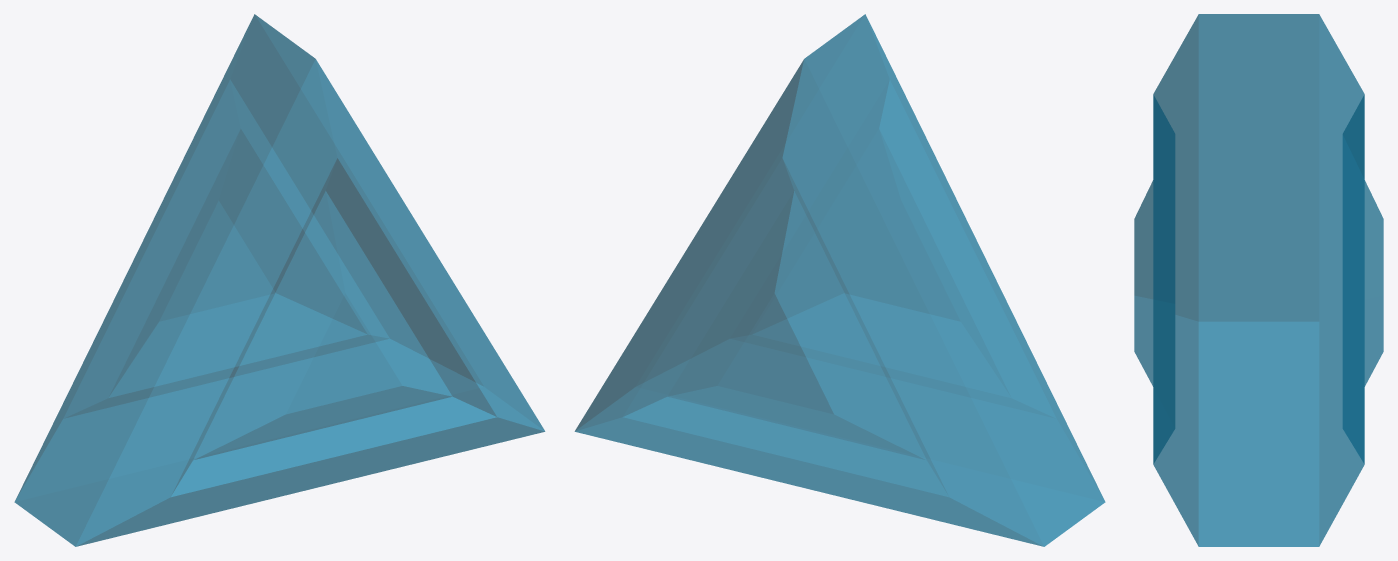
The model's file is tri.fbx.
3 renders of one model, left to right at view 1: azimuth 30°, elevation 25°; view 2: azimuth 150°, elevation 25°; view 3: azimuth 270°, elevation 25°, orthographic.
Parts seen in each view (by area): view 1: pCube1; view 2: pCube1; view 3: pCube1.
Part boxes in pixels (bbox=[...]): pCube1: bbox=[14, 14, 545, 546]; pCube1: bbox=[574, 14, 1105, 546]; pCube1: bbox=[1134, 14, 1383, 546].
Size of the model in its own units: 1.93 by 1.68 by 0.8997.
